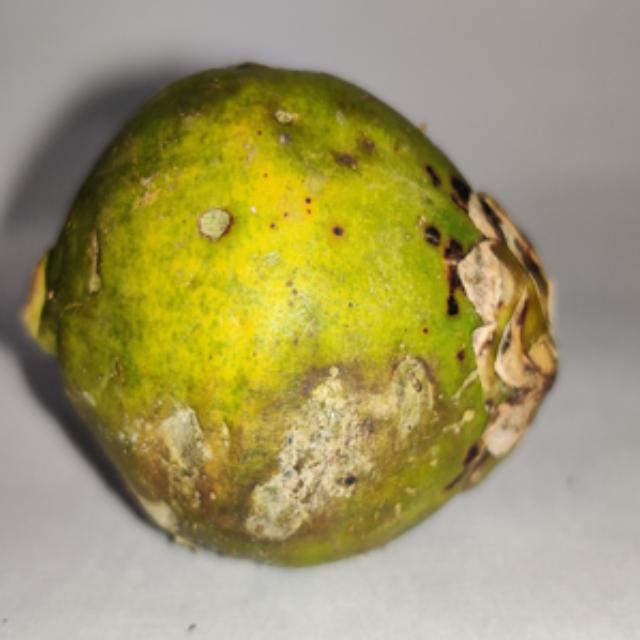damaged: (21, 62, 559, 569)
